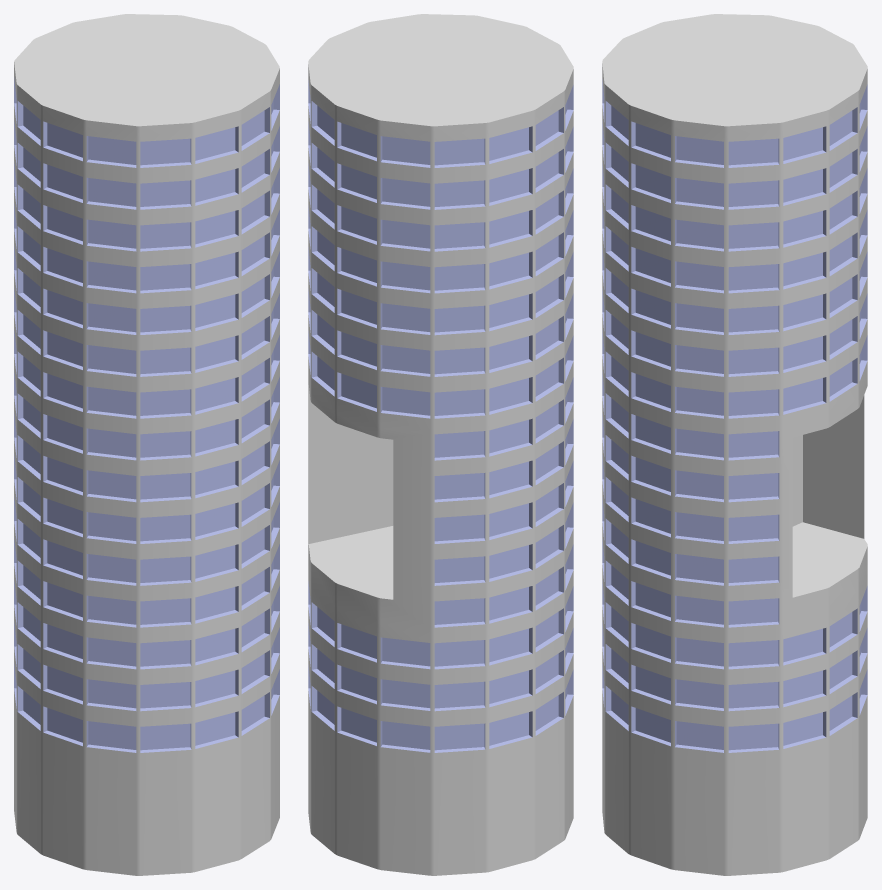
Rendered from buhinn3.fbx.
3 views of the same model, side by side, from view 1: azimuth 30°, elevation 25°; view 2: azimuth 150°, elevation 25°; view 3: azimuth 270°, elevation 25° (orthographic).
Parts seen in each view (by area): view 1: polySurface3; view 2: polySurface3; view 3: polySurface3.
Part boxes in pixels (x1,y1,x2,y2): polySurface3: [14, 14, 279, 875]; polySurface3: [308, 14, 573, 875]; polySurface3: [602, 14, 867, 875].
Size of the model in its own units: 12.41 by 38.64 by 12.4.
